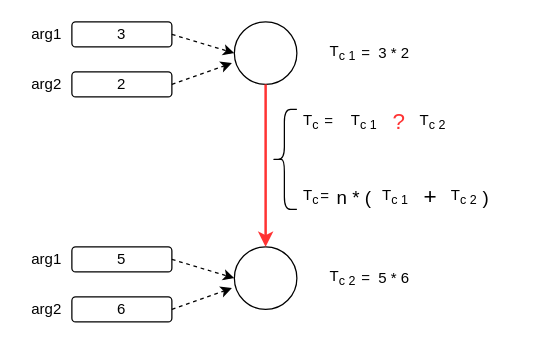
This 551x344 diagram has some shape labels left out. The shapes that lost their labels are listed below. From the top down, each one's centre as x and y in pixels, then its label:
At point (265, 52): "S1".
At point (265, 277): "S2".
